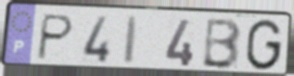4: (163, 16, 197, 69), (81, 13, 113, 64)
B: (200, 17, 243, 71)
G: (243, 17, 285, 72)
I: (122, 14, 141, 67)
P: (34, 12, 76, 62)
